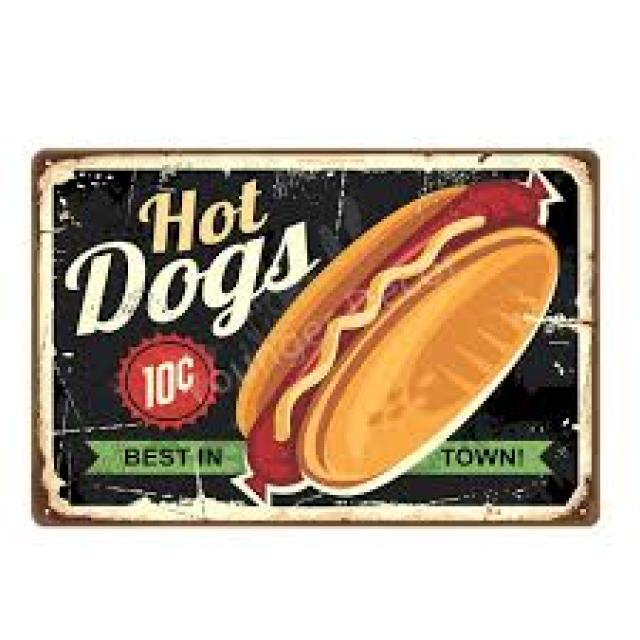Hot Dog: (283, 200, 594, 456)
